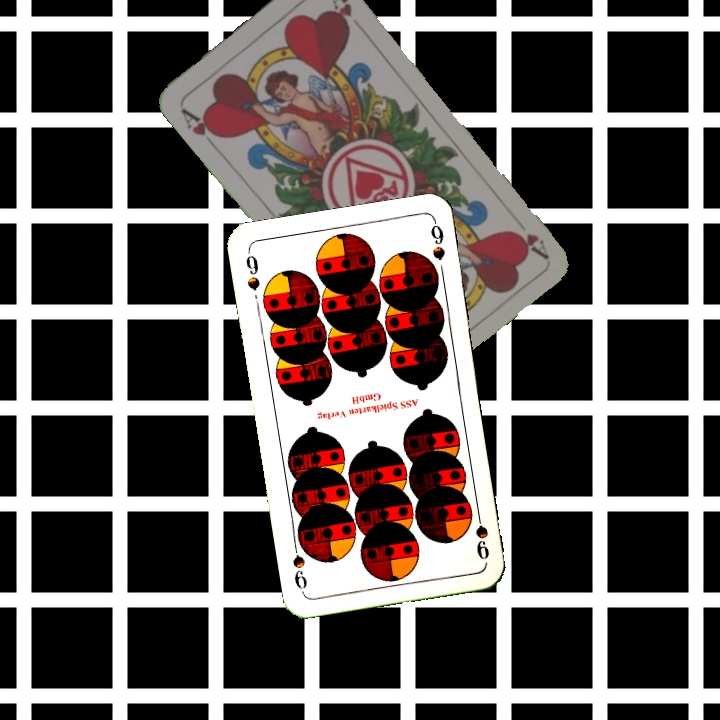HA: (176, 104, 225, 153), (507, 209, 550, 261)
S9: (471, 504, 492, 563), (241, 247, 263, 293)
